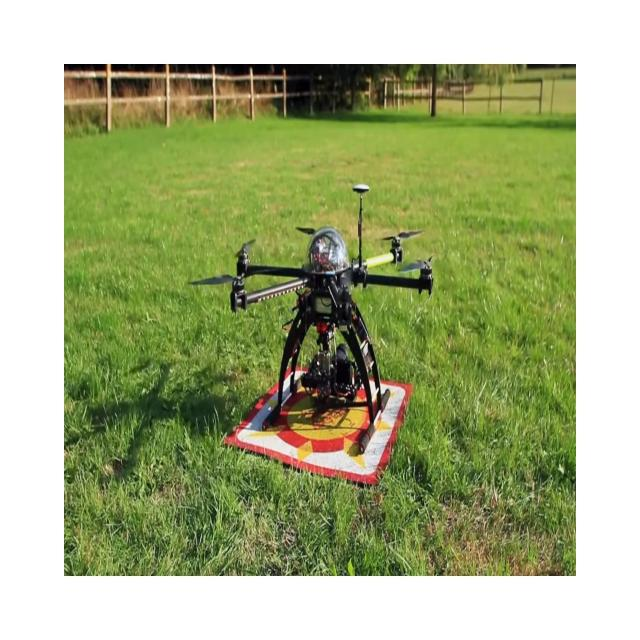drone: (188, 182, 434, 459)
